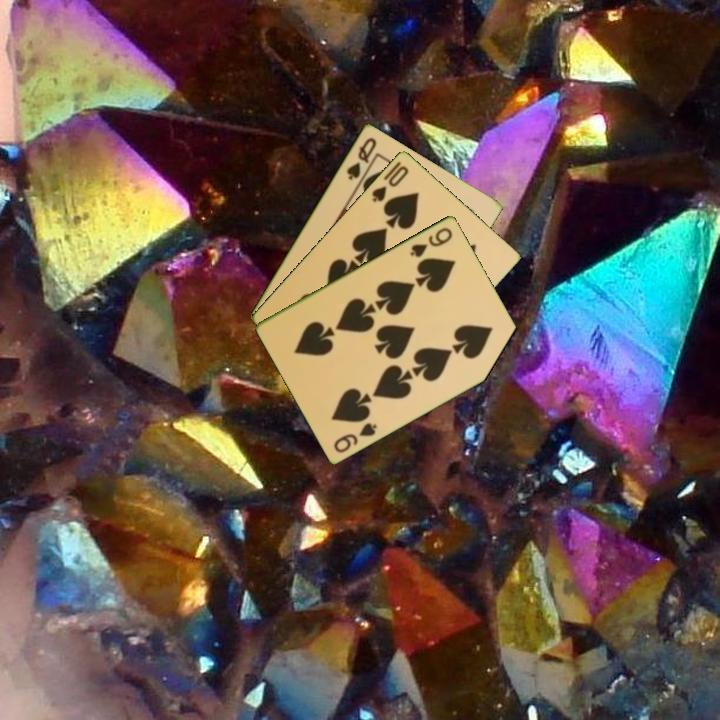10s: (368, 162, 412, 204)
9s: (406, 223, 456, 260), (330, 419, 380, 455)
Qs: (343, 133, 379, 183)
